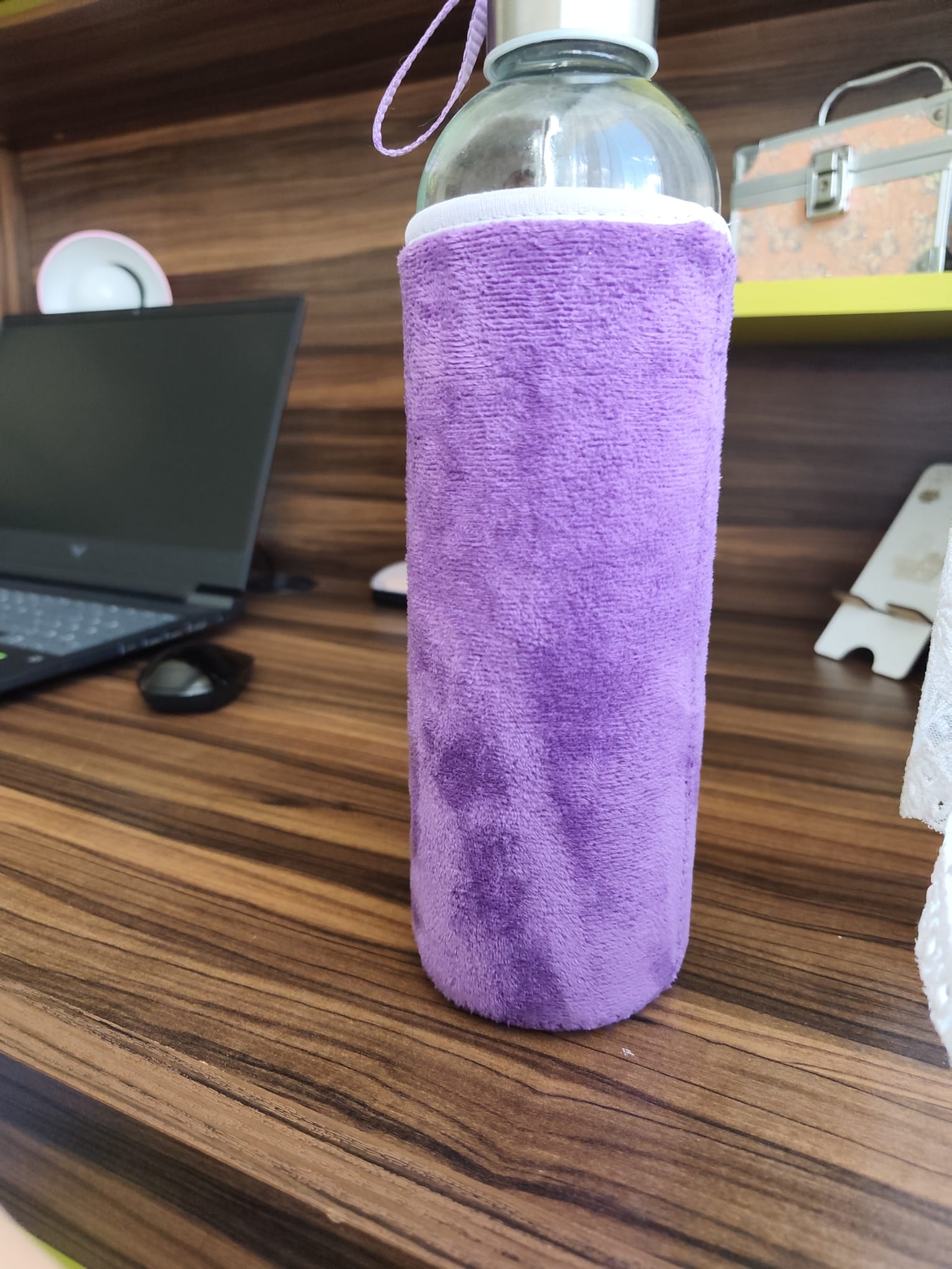su_sisesi: (345, 0, 760, 1031)
